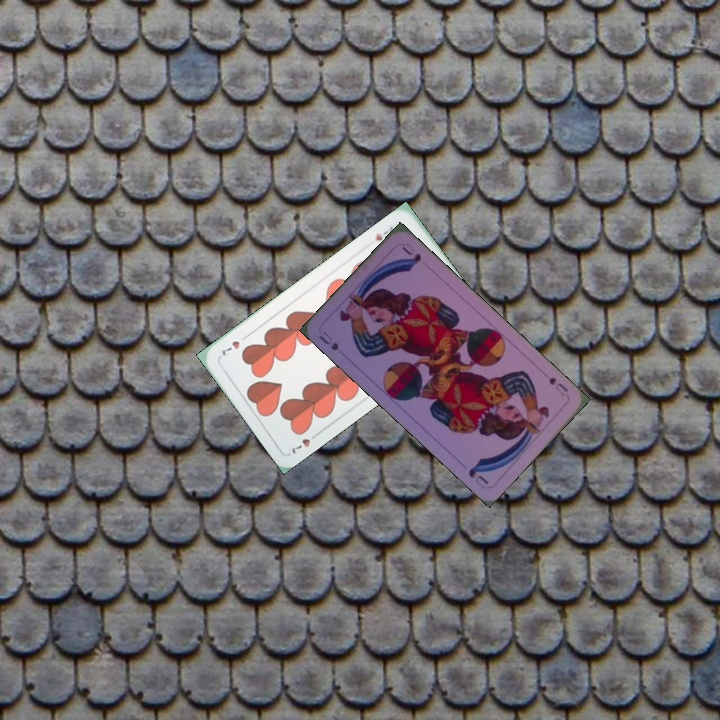H7: (288, 428, 322, 457), (371, 222, 396, 243)
SU: (315, 327, 341, 353), (545, 373, 571, 394)
